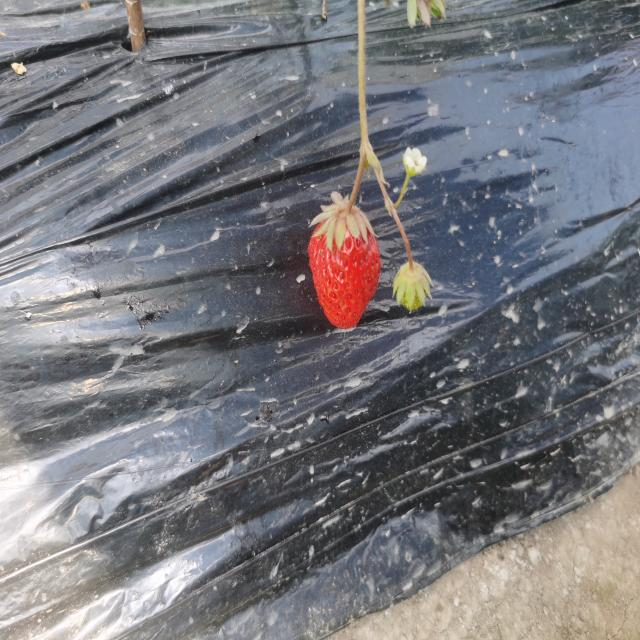stem: (343, 170, 363, 217)
strawberry: (308, 201, 382, 328)
